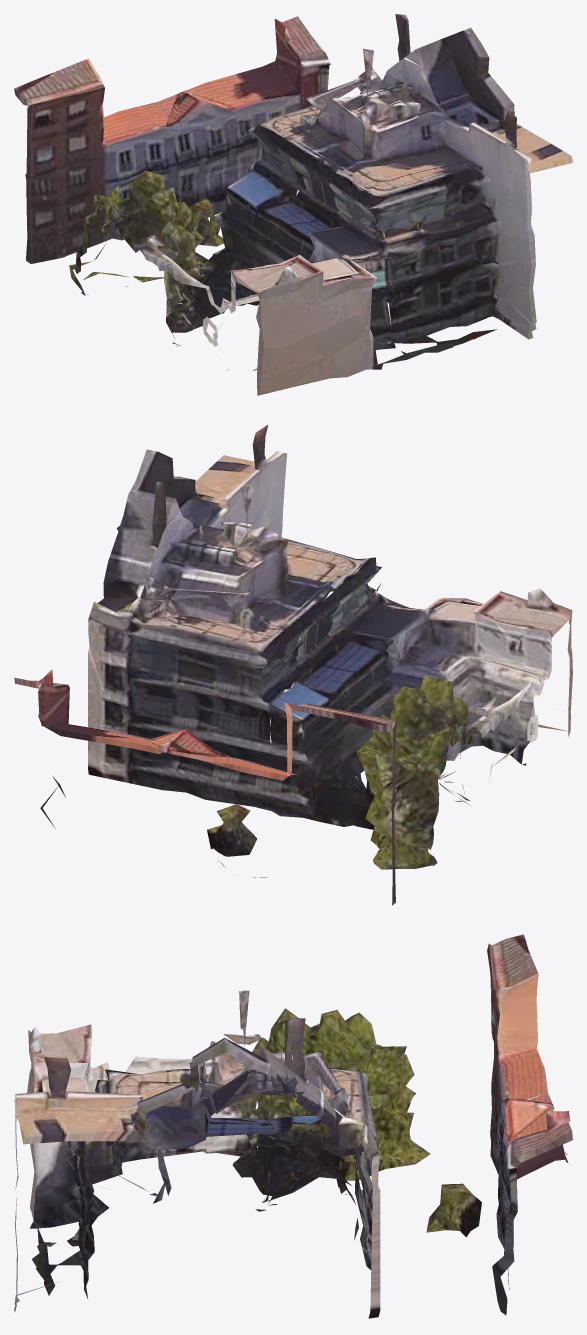
The picture shows the model from 3 angles, top to bottom: view 1: azimuth 30°, elevation 25°; view 2: azimuth 150°, elevation 25°; view 3: azimuth 270°, elevation 25°; orthographic projection. The views are drawn at different scales.
Visible parts, largest first — view 1: Mesh_0; view 2: Mesh_0; view 3: Mesh_0.
Boxes of the visible parts, x1,y1,x2,y2 form: Mesh_0: (14,14,572,395); Mesh_0: (14,425,572,905); Mesh_0: (14,934,572,1318).
Bounding box in the file's own units: 33.27 × 22 × 38.67.
2 materials, 2 textured.
